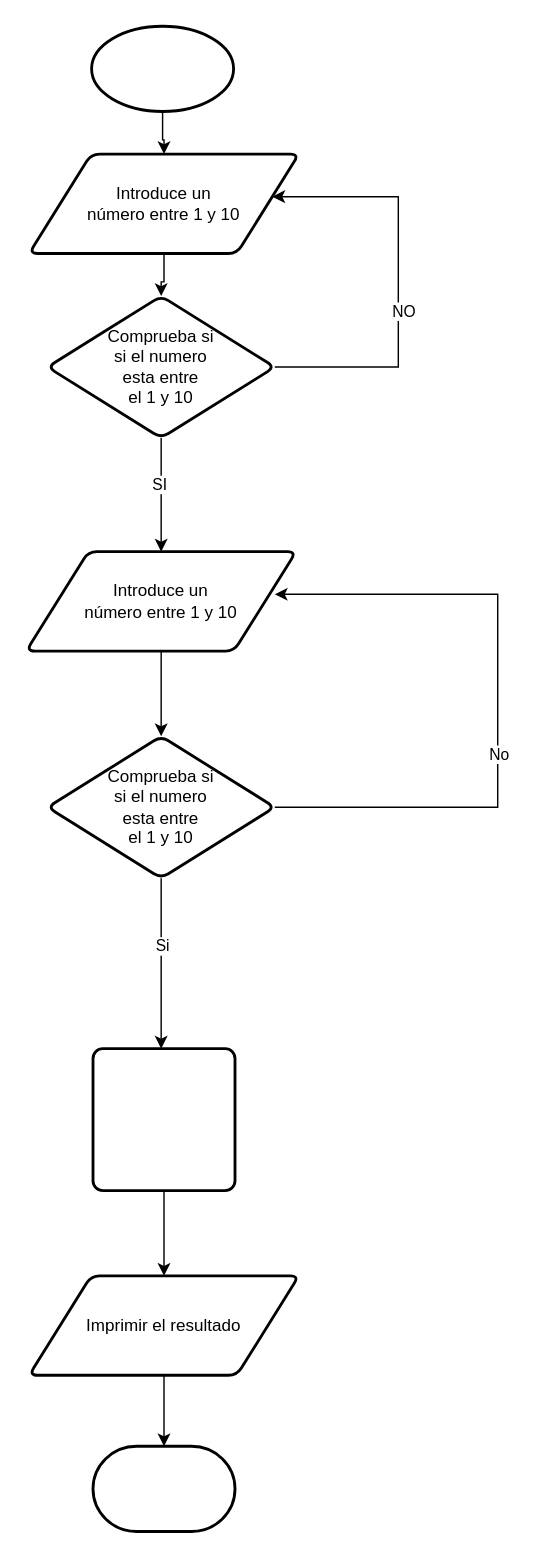
The diagram is 534 pixels wide and 1556 high, and some of its shapes have lost their labels. Here are the shapes that lost their labels. From the top down, the centre of each, then its label:
At point 161,68: "Inicio".
At point 163,1119: "Sumar los dos numeros".
At point 163,1488: "Final".
